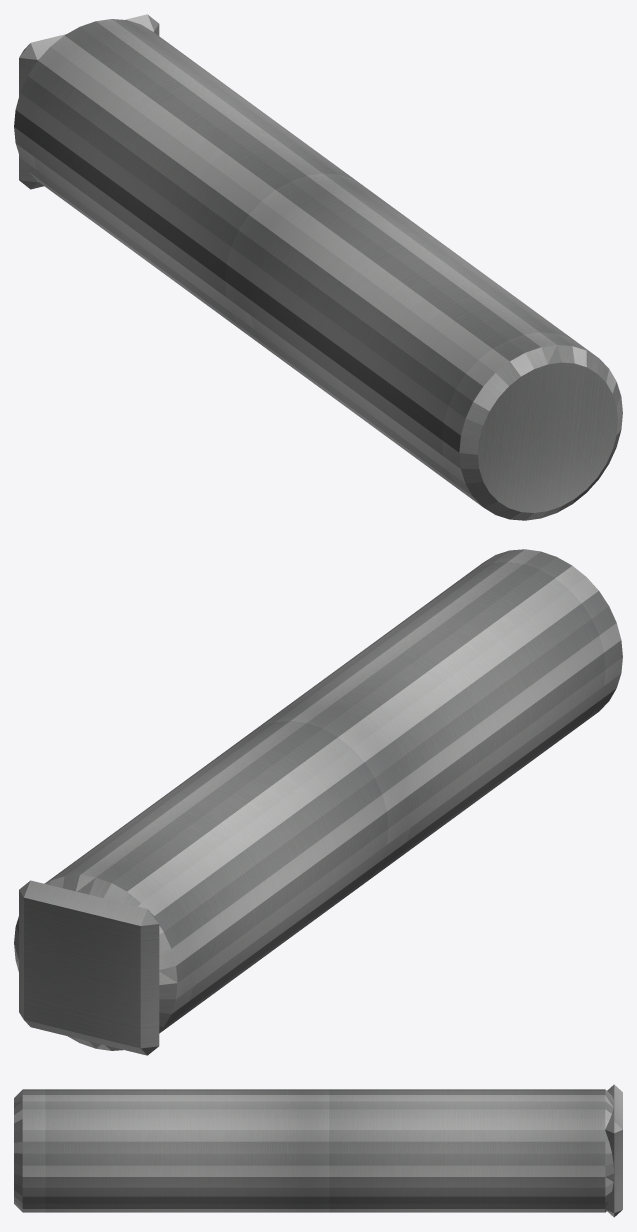
The model's file is suspension.glb.
3 renders of one model, top to bottom at view 1: azimuth 30°, elevation 25°; view 2: azimuth 150°, elevation 25°; view 3: azimuth 270°, elevation 25°, orthographic. The views are drawn at different scales.
Parts seen in each view (by area): view 1: Cylinder; view 2: Cylinder; view 3: Cylinder.
Part boxes in pixels (x1,y1,x2,y2): Cylinder: (14,14,622,520); Cylinder: (14,549,622,1055); Cylinder: (14,1084,622,1217).
Bounding box in the file's own units: 0.07 × 0.07 × 0.345.
1 material, 1 textured.
